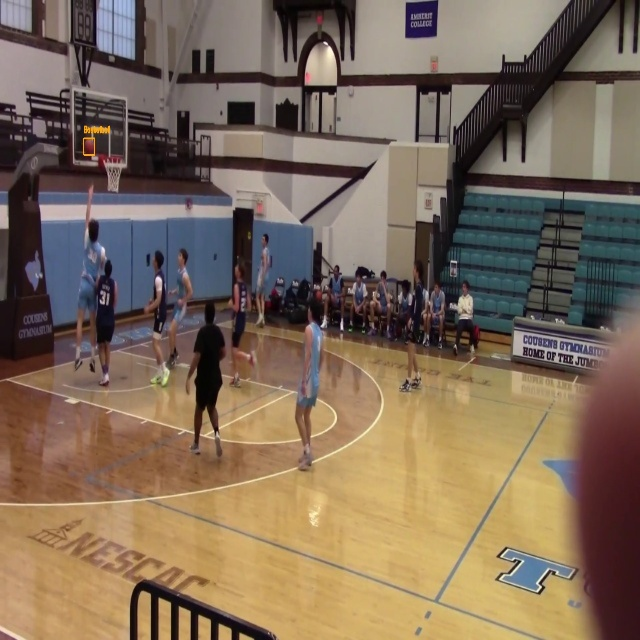Basketball: (84, 138, 95, 155)
